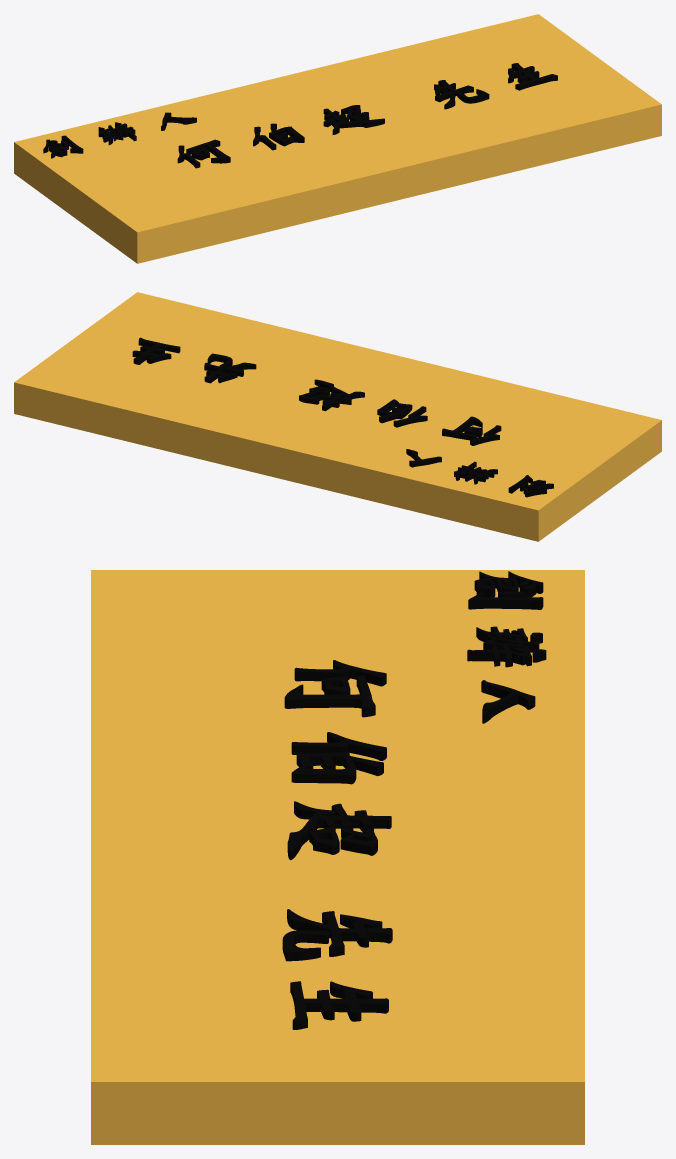
The model's file is 創辦人.FBX.
3 renders of one model, top to bottom at view 1: azimuth 30°, elevation 25°; view 2: azimuth 150°, elevation 25°; view 3: azimuth 270°, elevation 25°, orthographic. The views are drawn at different scales.
Visible parts, largest first — view 1: Box002, Text005, Text009; view 2: Box002, Text005, Text009; view 3: Box002, Text005, Text009.
Boxes of the visible parts, <box> form: Box002: <box>14,14,661,263</box>; Text005: <box>177,63,557,168</box>; Text009: <box>43,112,196,158</box>; Box002: <box>14,292,661,541</box>; Text005: <box>132,337,501,445</box>; Text009: <box>406,449,553,497</box>; Box002: <box>91,570,584,1144</box>; Text005: <box>282,660,392,1029</box>; Text009: <box>467,571,546,723</box>.
Size of the model in its own units: 469 by 30.73 by 191.
